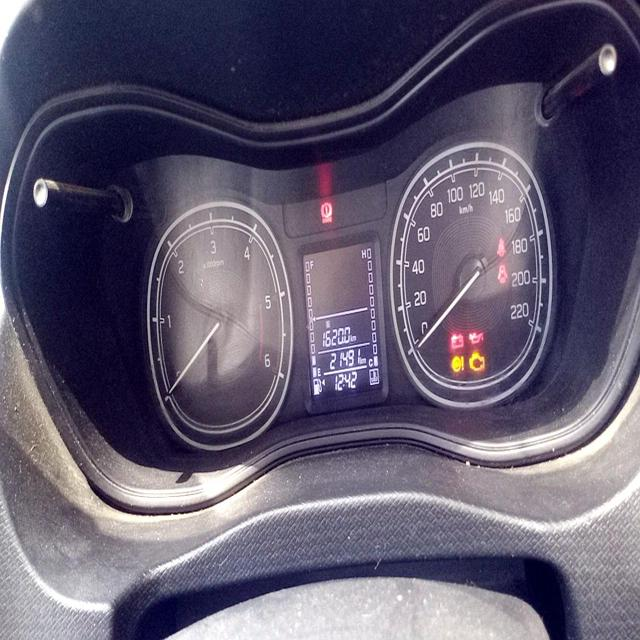odometer: (328, 346, 360, 370)
